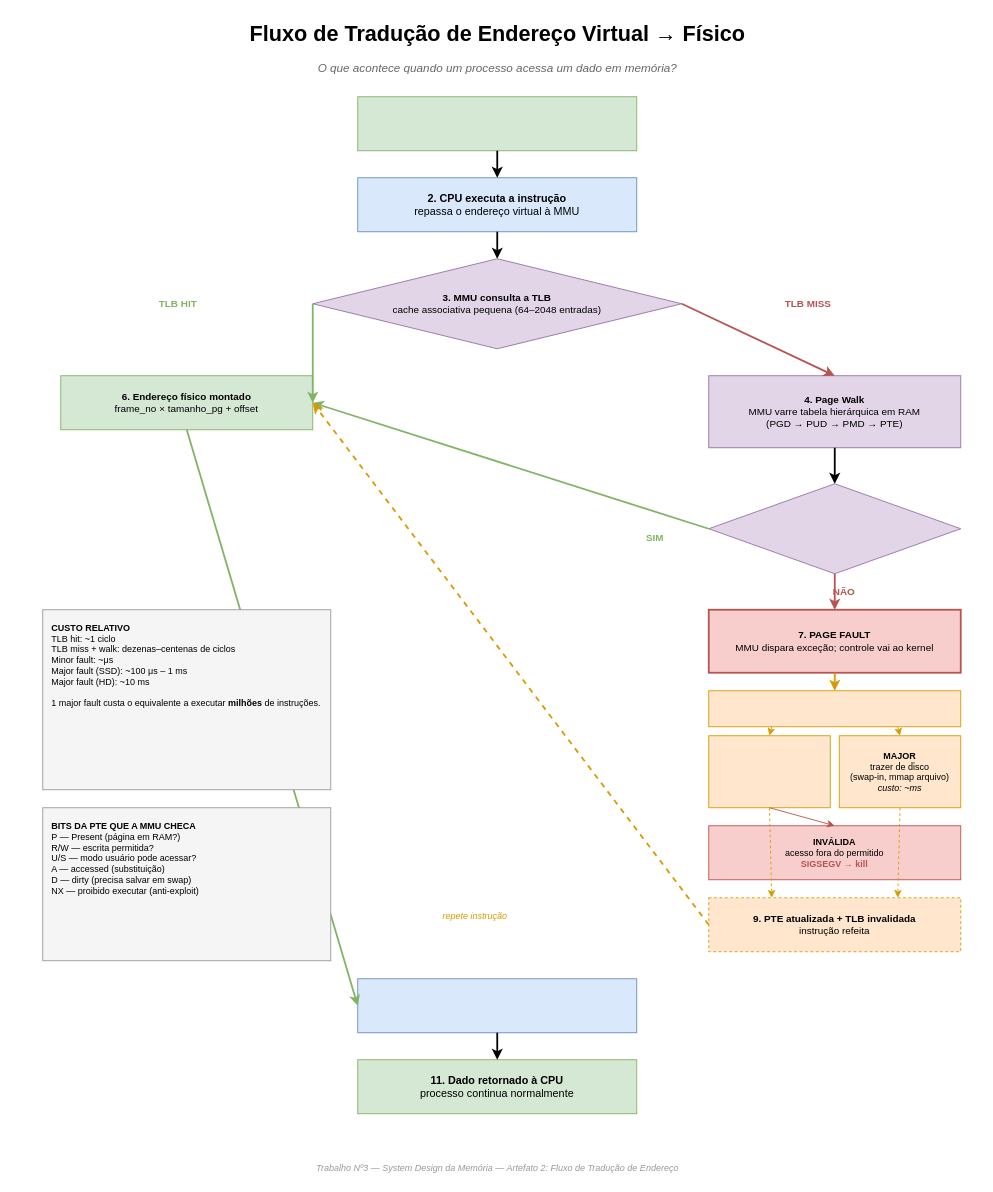
This 993x1192 diagram has some shape labels left out. The centre of each missing label's shape, as x and y in pixels:
"1. Processo emite endereço virtual ex.: mov rax, [0x7ffe1234]" belongs at point 497,123.
"10. Acesso à memória física (RAM) controlador de memória entrega o dado" belongs at point 497,1005.
"5. PTE válida? P=1, permissões OK?" belongs at point 834,528.
"8. Kernel trata a falha" belongs at point 834,708.
"MINOR página existe, só alocar (zero-page, demand paging) custo: ~μs" belongs at point 769,771.
